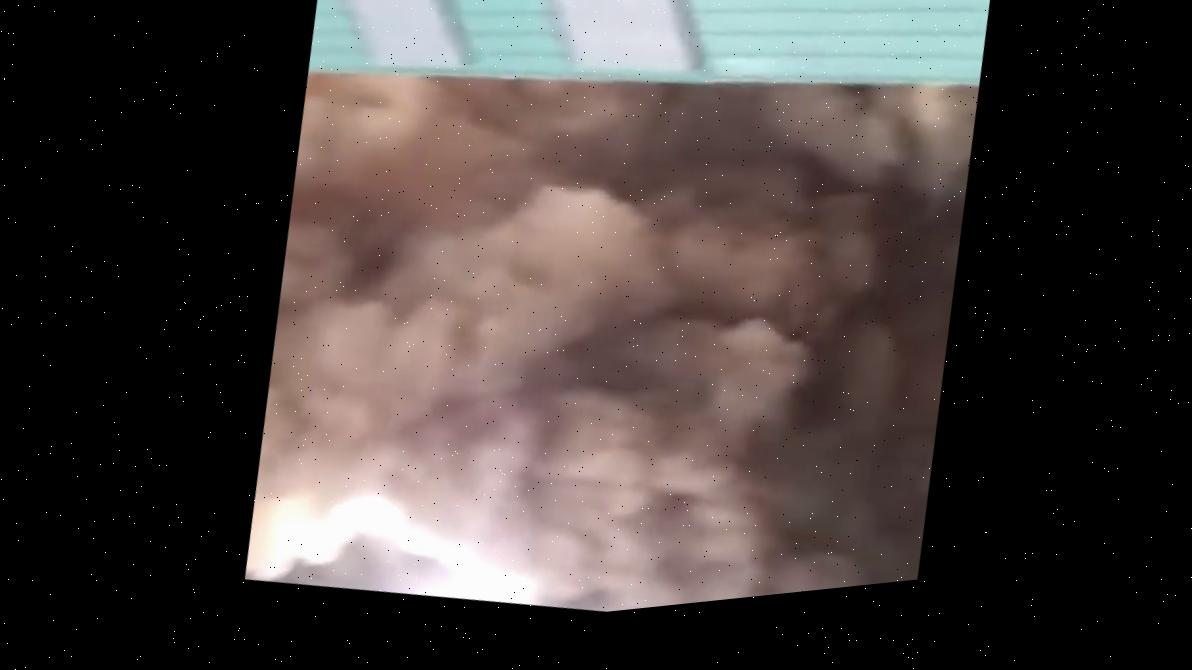smoke: (119, 67, 1073, 603)
